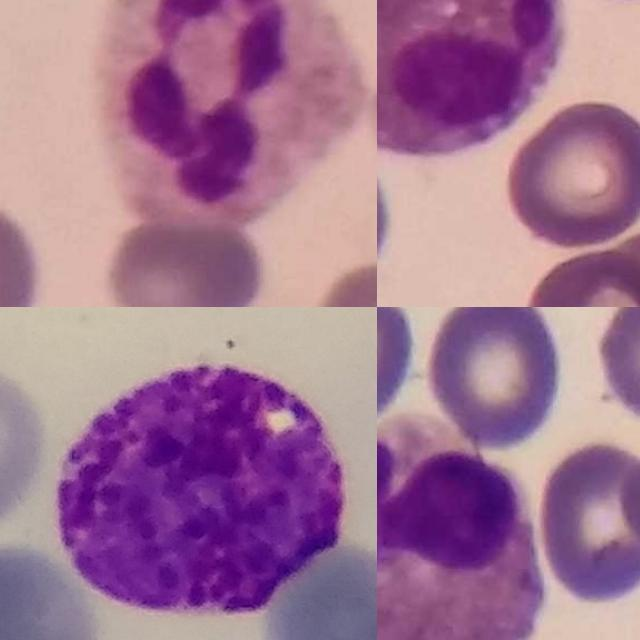Basophil: (56, 366, 346, 619)
Eosinophil: (377, 414, 547, 640), (377, 0, 558, 156)
Neutrophil: (94, 0, 365, 231)
